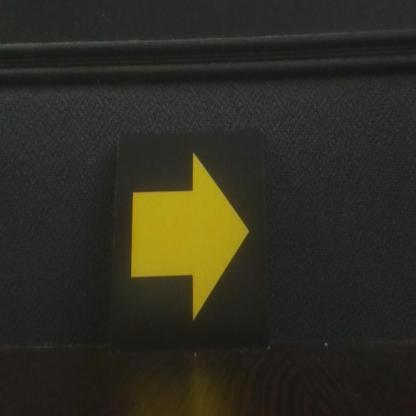right: (115, 133, 269, 346)
